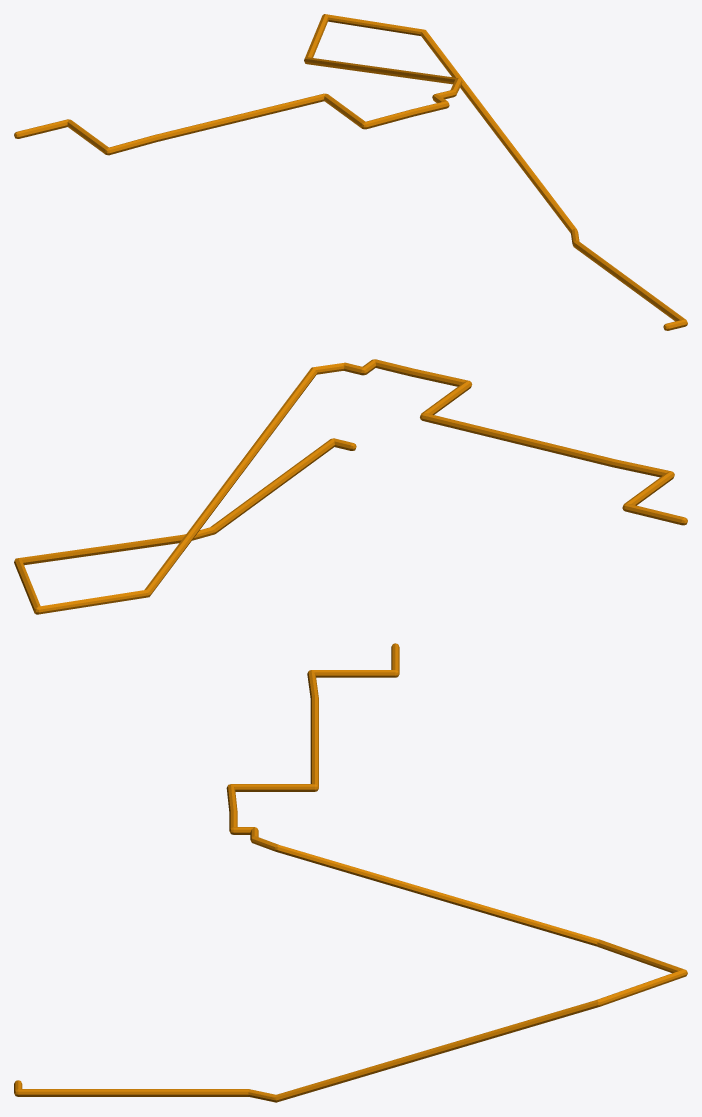
The picture shows the model from 3 angles, top to bottom: view 1: azimuth 30°, elevation 25°; view 2: azimuth 150°, elevation 25°; view 3: azimuth 270°, elevation 25°; orthographic projection. The views are drawn at different scales.
Bounding box in the file's own units: 1492 × 520 × 1605.
